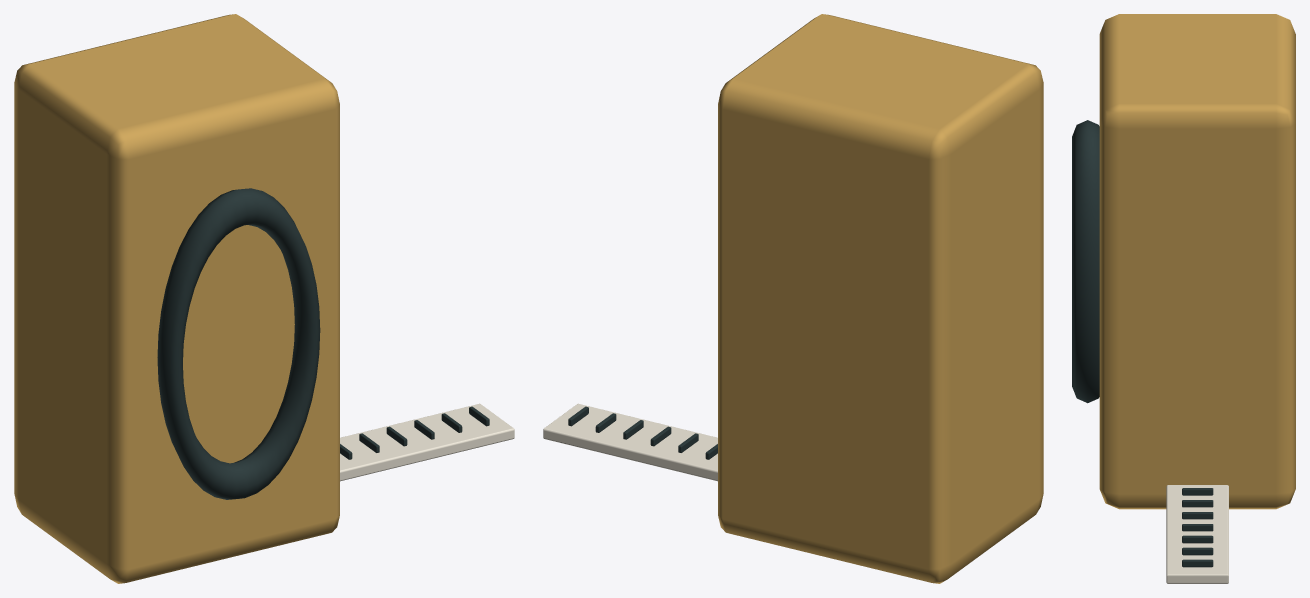
The model's file is wp-metre-ruban.glb.
3 renders of one model, left to right at view 1: azimuth 30°, elevation 25°; view 2: azimuth 150°, elevation 25°; view 3: azimuth 270°, elevation 25°, orthographic. The views are drawn at different scales.
Parts seen in each view (by area): view 1: wp-metre-ruban; view 2: wp-metre-ruban; view 3: wp-metre-ruban.
Part boxes in pixels (x1,y1,x2,y2): wp-metre-ruban: (14, 14, 514, 583); wp-metre-ruban: (543, 14, 1043, 583); wp-metre-ruban: (1072, 14, 1295, 583).
Bounding box in the file's own units: 0.08 × 0.08 × 0.04.
